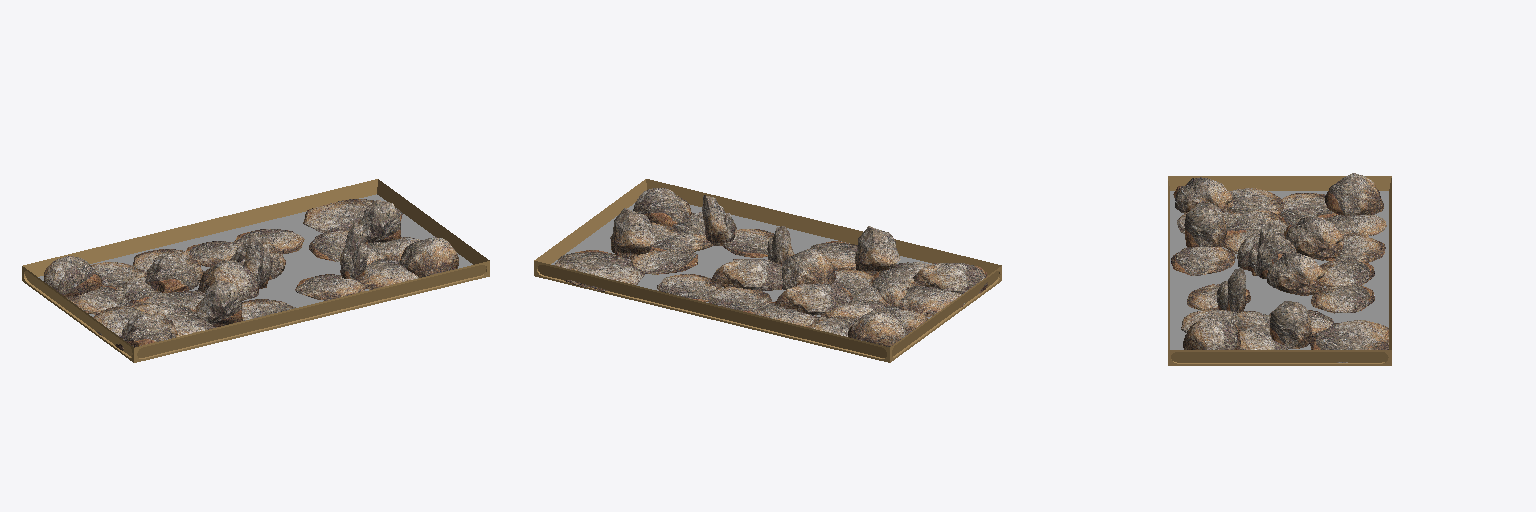
3 views of the same model, side by side, from view 1: azimuth 30°, elevation 25°; view 2: azimuth 150°, elevation 25°; view 3: azimuth 270°, elevation 25° (orthographic).
Visible parts, largest first — view 1: Icosphere.001_Icosphere.000, walls_wall1_walls_Cube.002_Cube.002_Material_wall1_walls_Cube.00, floor_Cube_Cube_Material.000_floor_Cube_Cube_Material.000_Mater; view 2: Icosphere.001_Icosphere.000, walls_wall1_walls_Cube.002_Cube.002_Material_wall1_walls_Cube.00, floor_Cube_Cube_Material.000_floor_Cube_Cube_Material.000_Mater; view 3: Icosphere.001_Icosphere.000, walls_wall1_walls_Cube.002_Cube.002_Material_wall1_walls_Cube.00, floor_Cube_Cube_Material.000_floor_Cube_Cube_Material.000_Mater.
Boxes of the visible parts, x1=… form: Icosphere.001_Icosphere.000: x1=44, y1=199, x2=458, y2=350; walls_wall1_walls_Cube.002_Cube.002_Material_wall1_walls_Cube.00: x1=22, y1=179, x2=489, y2=362; floor_Cube_Cube_Material.000_floor_Cube_Cube_Material.000_Mater: x1=38, y1=194, x2=472, y2=316; Icosphere.001_Icosphere.000: x1=554, y1=188, x2=987, y2=346; walls_wall1_walls_Cube.002_Cube.002_Material_wall1_walls_Cube.00: x1=534, y1=179, x2=1001, y2=362; floor_Cube_Cube_Material.000_floor_Cube_Cube_Material.000_Mater: x1=551, y1=203, x2=931, y2=318; Icosphere.001_Icosphere.000: x1=1171, y1=173, x2=1388, y2=362; walls_wall1_walls_Cube.002_Cube.002_Material_wall1_walls_Cube.00: x1=1168, y1=176, x2=1391, y2=365; floor_Cube_Cube_Material.000_floor_Cube_Cube_Material.000_Mater: x1=1170, y1=191, x2=1388, y2=349.
Bounding box in the file's own units: 26.4 × 4.1 × 14.43.
Materials: 3 (1 with a texture image).